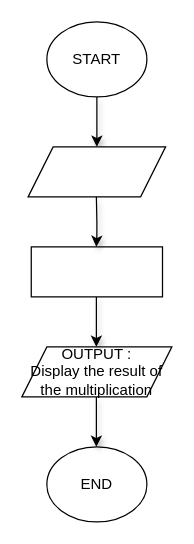
The diagram is 194 pixels wide and 544 high, and some of its shapes have lost their labels. Here are the shapes that lost their labels. From the top down, the centre of each, then its label:
pixel 96 171: INPUT : num1 num2
pixel 96 271: multiply num1 * num2
